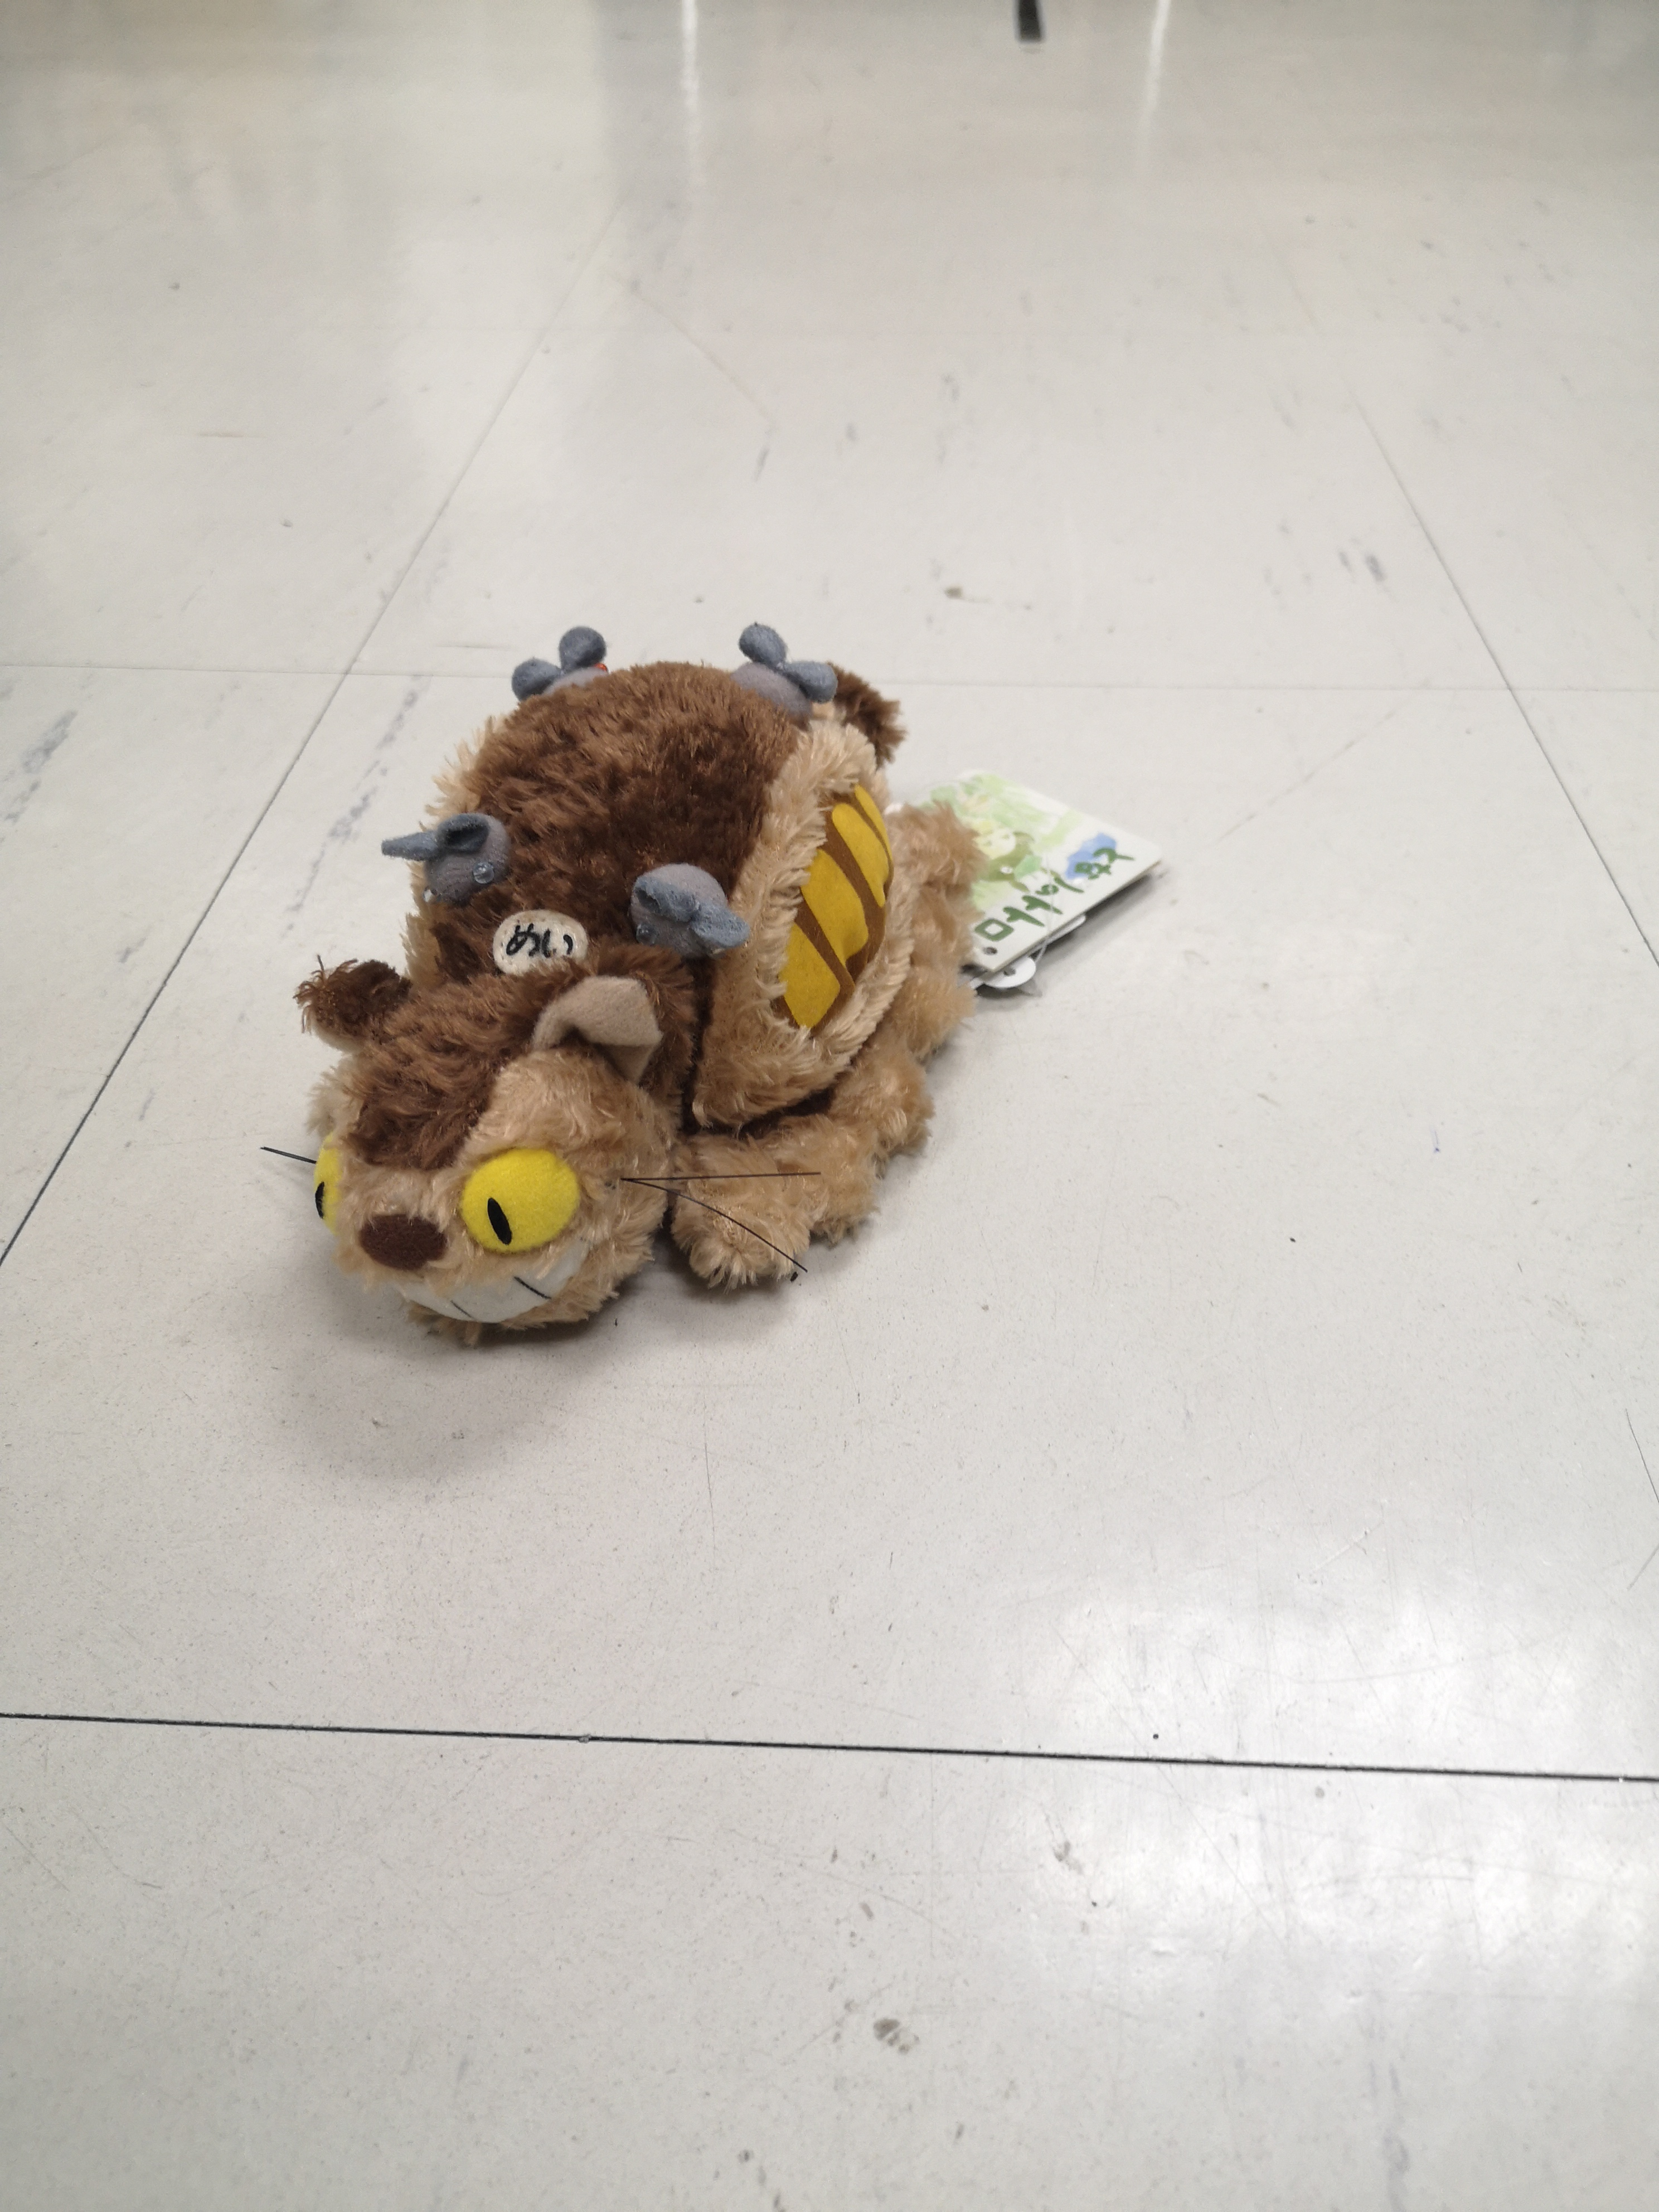nekobus: (260, 610, 1011, 1357)
